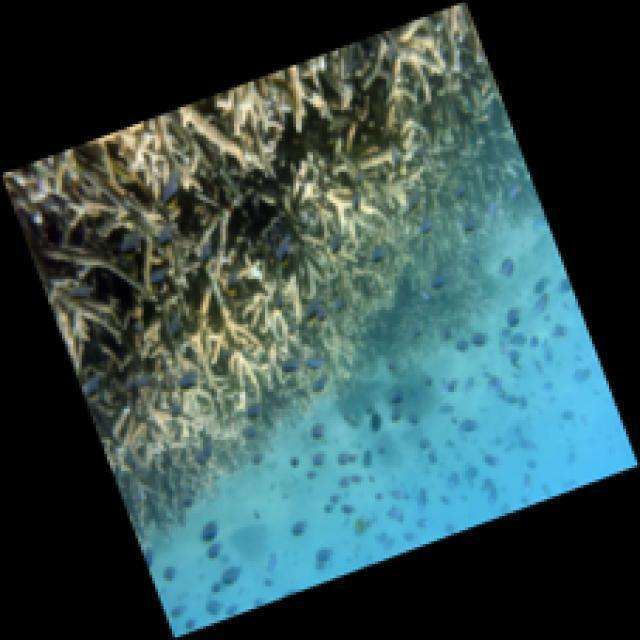Dead Coral: (60, 77, 435, 373)
